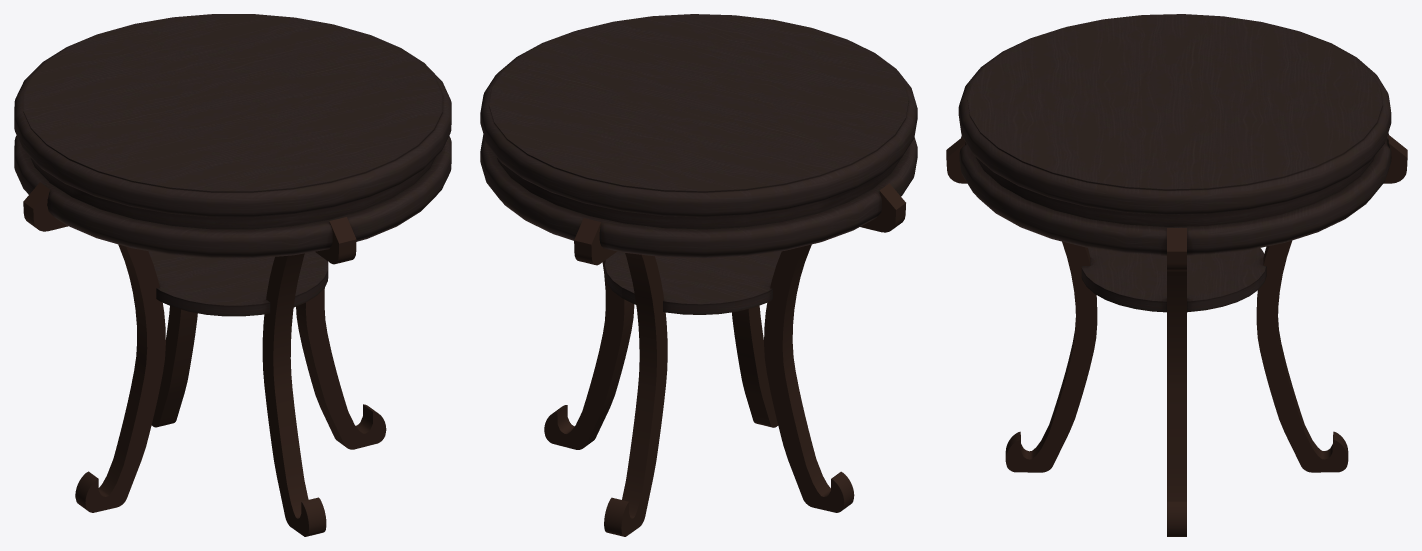
File: L2_B1_WoodenTable.fbx
3 renders of one model, left to right at view 1: azimuth 30°, elevation 25°; view 2: azimuth 150°, elevation 25°; view 3: azimuth 270°, elevation 25°, orthographic.
Parts seen in each view (by area): view 1: L2_B1_WoodenTable; view 2: L2_B1_WoodenTable; view 3: L2_B1_WoodenTable.
Boxes of the visible parts, bbox=[...] form: L2_B1_WoodenTable: bbox=[14, 14, 451, 536]; L2_B1_WoodenTable: bbox=[480, 14, 917, 536]; L2_B1_WoodenTable: bbox=[946, 14, 1407, 536].
Bounding box in the file's own units: 1.1 × 0.9694 × 1.1.
1 material, 1 textured.
